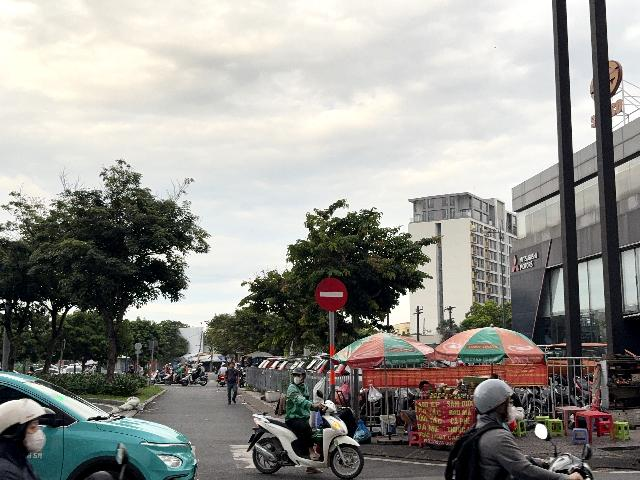cam-di-nguoc-chieu: (315, 277, 347, 312)
